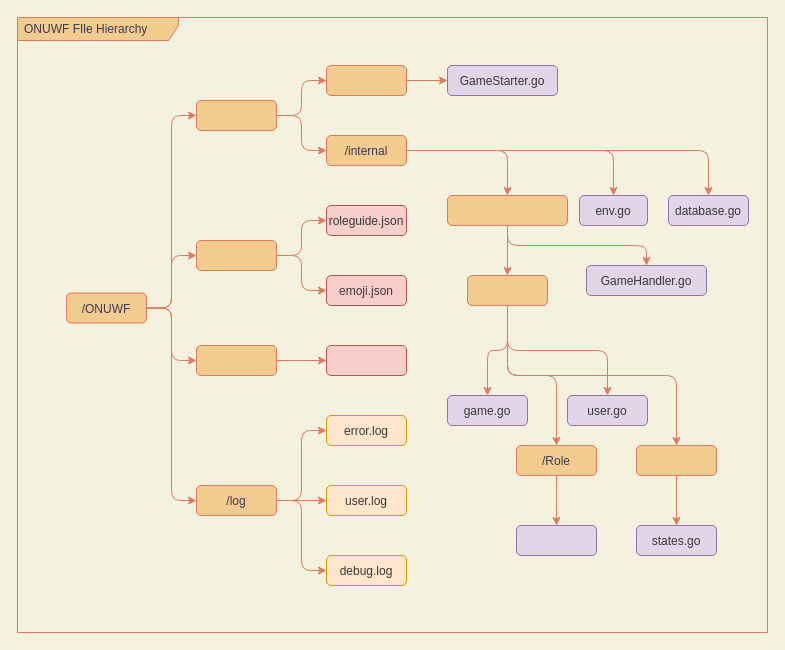
Image size: 785x650. Some labels were removed from this diagram. The box of each missing label's shape, as (x1, y1, x2, y2) in pixels:
/asset: (196, 240, 276, 270)
/cmd: (196, 100, 276, 130)
/configs: (196, 344, 276, 376)
/GameData: (466, 274, 548, 306)
/GameHandler: (446, 194, 568, 226)
/pkg: (326, 64, 406, 96)
/State: (636, 444, 716, 476)
env.json: (326, 344, 406, 376)
roles.go: (516, 524, 596, 556)
